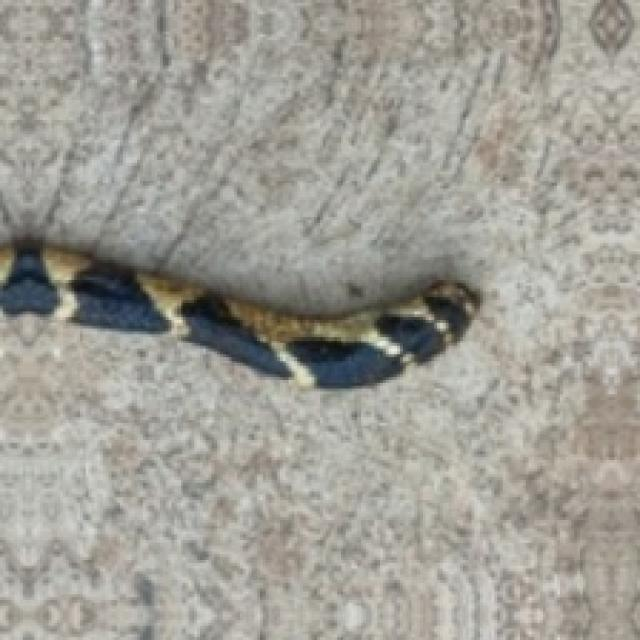king cobra: (0, 0, 557, 311), (0, 240, 477, 386)
